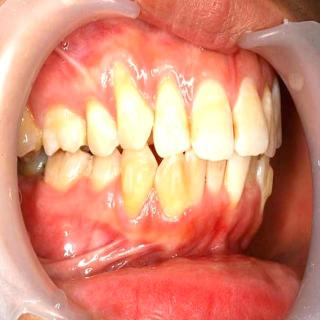Gum Swelling: (39, 172, 230, 249), (68, 42, 242, 122)
maligned: (150, 146, 192, 212), (232, 76, 268, 153), (224, 153, 248, 213)
stains: (169, 105, 213, 146), (223, 113, 247, 144)
